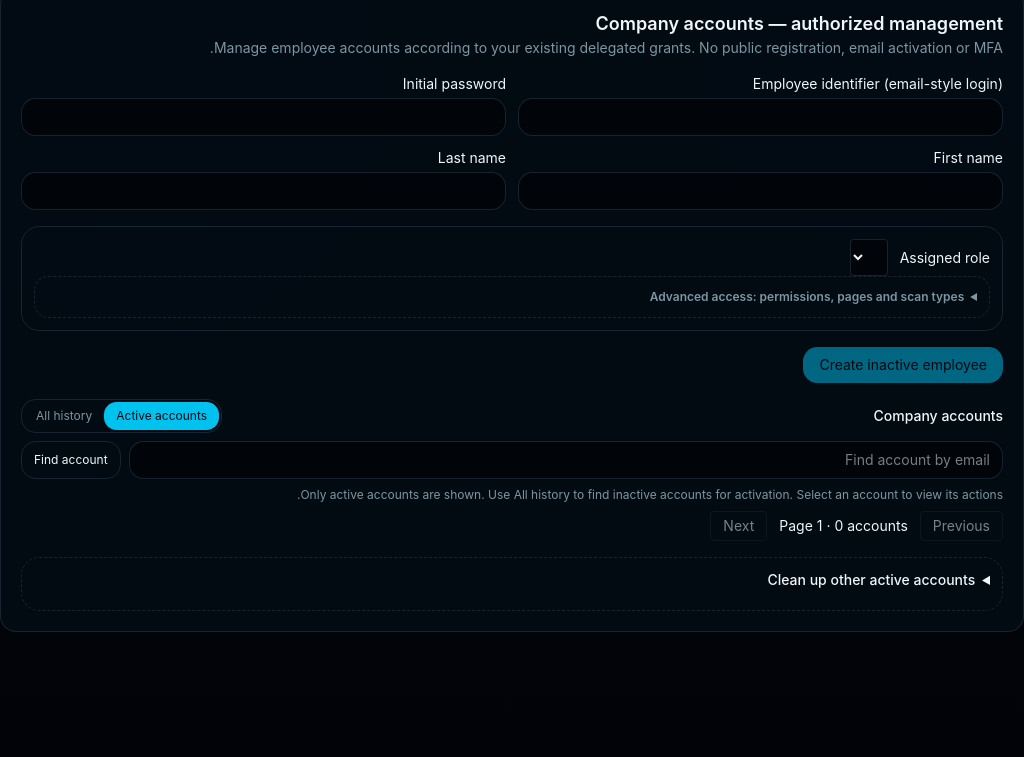
Scenario: owner-only company account UI › stops bulk cleanup at the first endpoint failure with partial count
Step 1. Click the heading "Clean up other active accounts" → x=871, y=580, box x1=767 y1=571 x2=975 y2=588
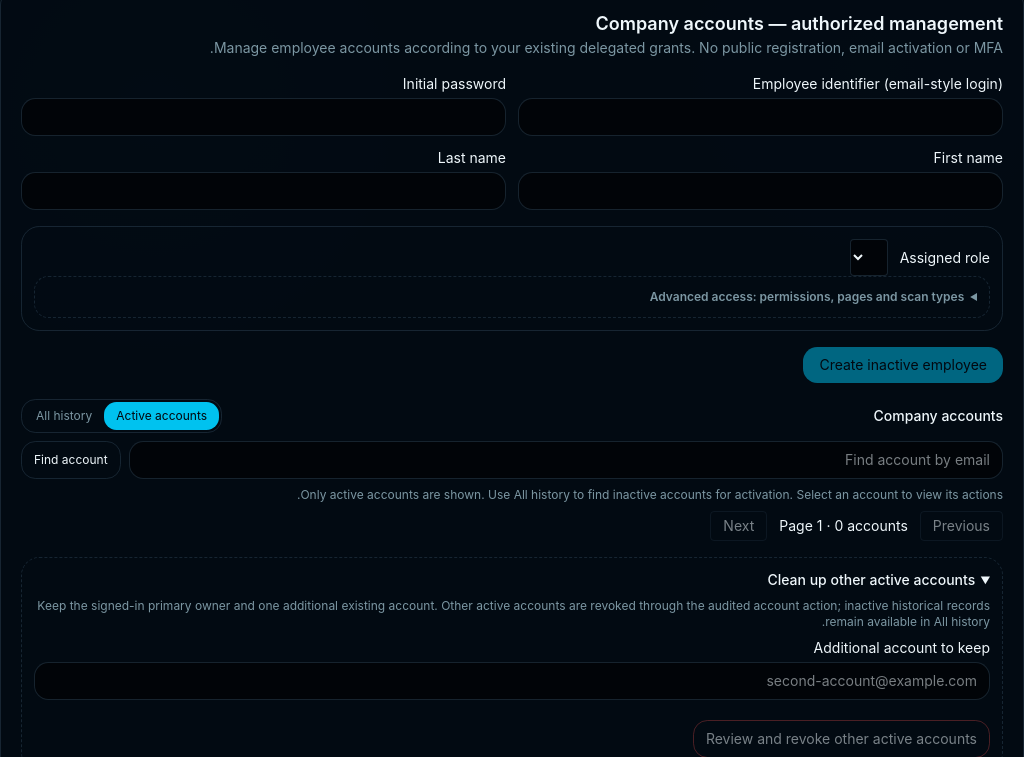
Step 2. Type "keep@company.invalid" into the field labelled "Additional account to keep" → x=512, y=681, box x1=34 y1=662 x2=990 y2=700
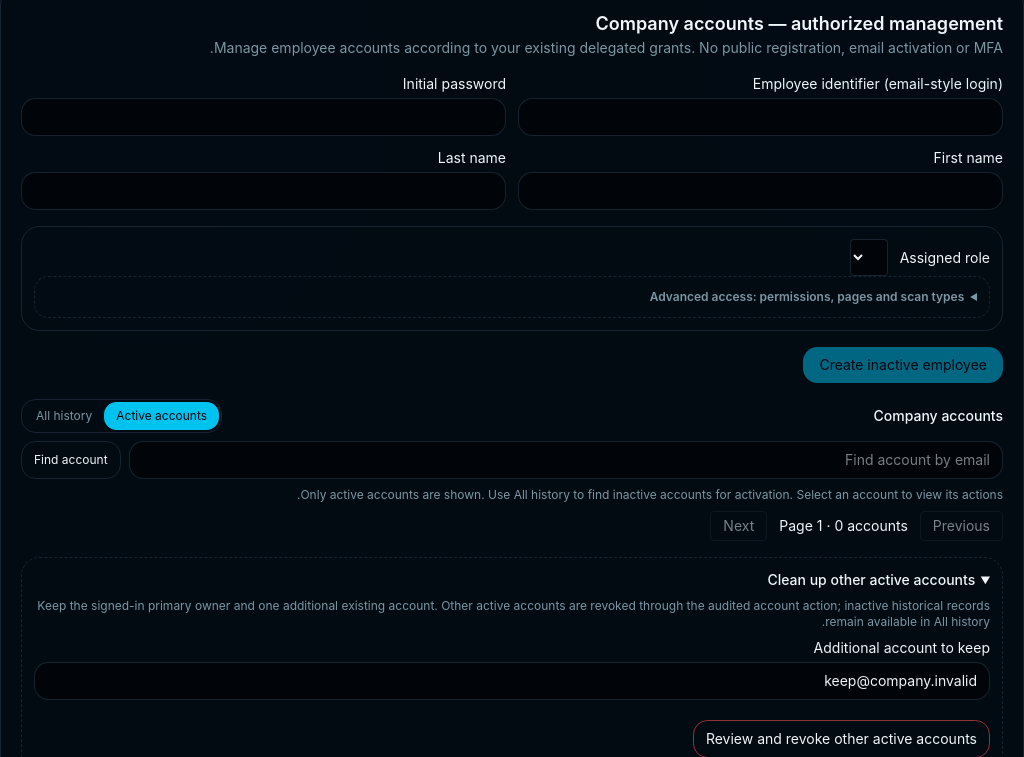
Step 3. Click the button "Review and revoke other active accounts" → x=841, y=739, box x1=693 y1=720 x2=990 y2=756
(page scrolled)
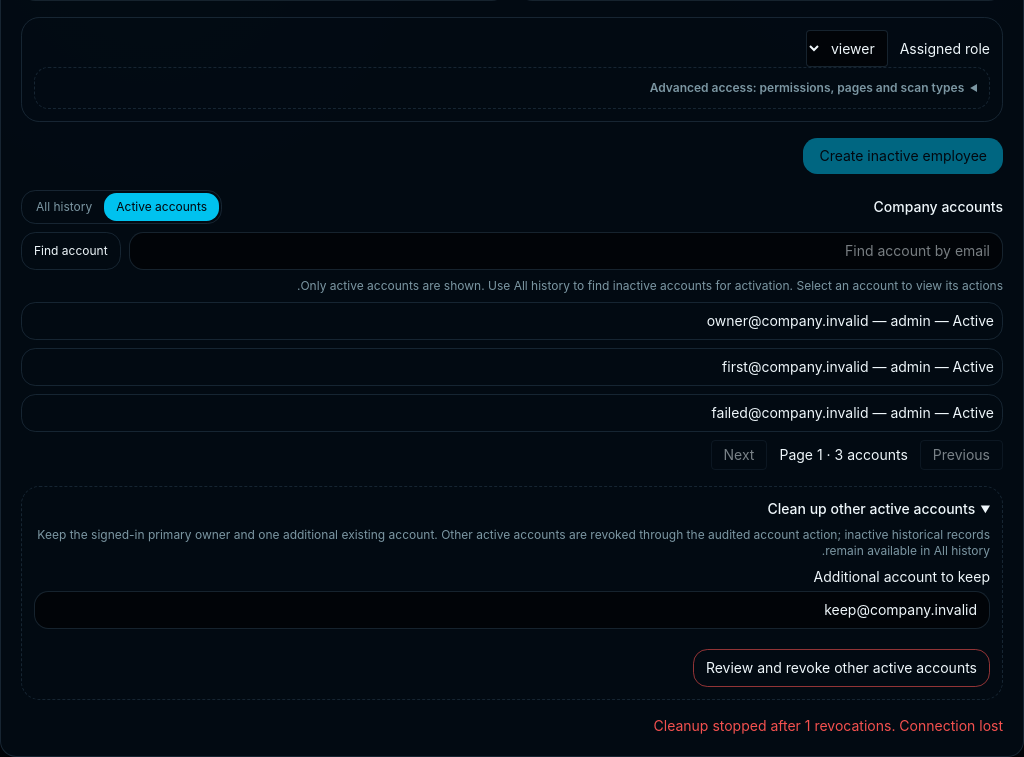
Now the message shows "stopped after 1 revocations", box x1=654 y1=717 x2=1003 y2=734
